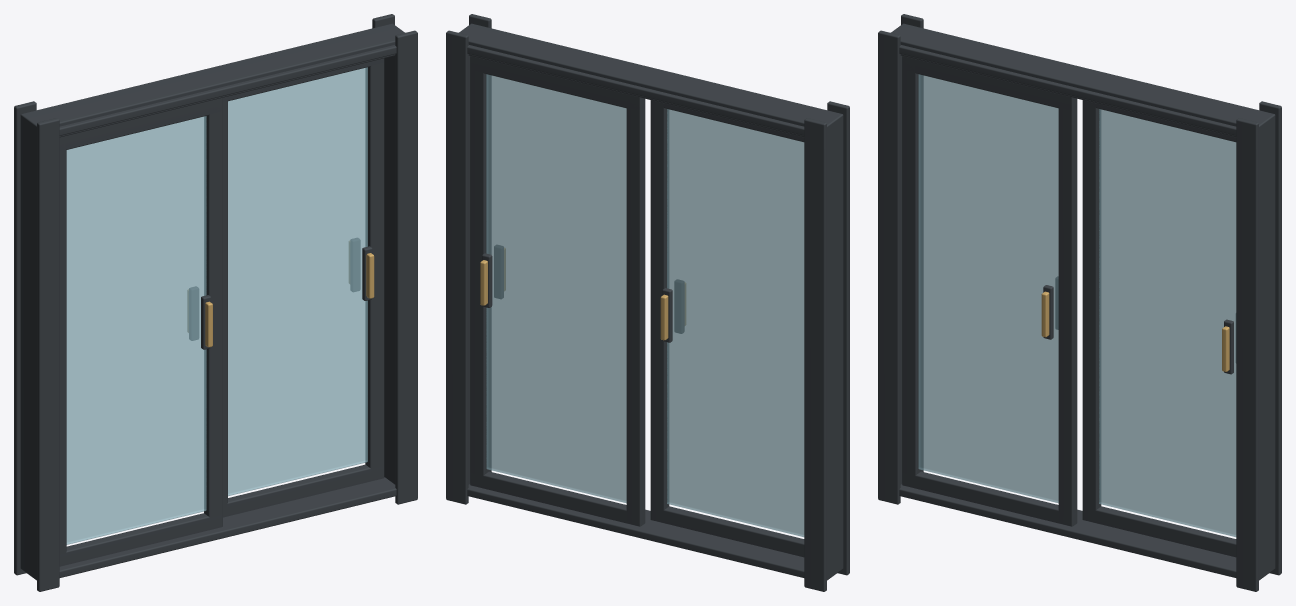
Rendered from door-sliding.glb.
The picture shows the model from 3 angles, left to right: view 1: azimuth 30°, elevation 25°; view 2: azimuth 150°, elevation 25°; view 3: azimuth 330°, elevation 25°; orthographic projection.
Parts seen in each view (by area): view 1: Door glazing, Door glazing.001, Architrave.008, Architrave.010, Lintel.002, Jamb.004, Stile.003, Stile.001, Twin track, Jamb.005, Architrave.009, Twin track.001 (+8 smaller); view 2: Door glazing.001, Door glazing, Architrave.009, Architrave.011, Lintel.002, Stile.002, Jamb.004, Stile.001, Stile.003, Twin track, Architrave.008, Twin track.001 (+8 smaller); view 3: Door glazing, Door glazing.001, Architrave.010, Architrave.008, Lintel.002, Stile.001, Stile.002, Stile, Jamb.005, Twin track, Architrave.011, Twin track.001 (+6 smaller).
Boxes of the visible parts, x1,y1,x2,y2 form: Door glazing: [66, 116, 206, 544]; Door glazing.001: [228, 67, 367, 496]; Architrave.008: [37, 118, 59, 591]; Architrave.010: [395, 30, 417, 504]; Lintel.002: [21, 23, 404, 137]; Jamb.004: [20, 115, 36, 580]; Stile.003: [365, 62, 384, 478]; Stile.001: [204, 97, 222, 524]; Twin track: [59, 477, 396, 577]; Jamb.005: [384, 56, 395, 484]; Architrave.009: [14, 101, 36, 575]; Twin track.001: [59, 45, 396, 135]; Door glazing.001: [486, 74, 626, 503]; Door glazing: [667, 109, 804, 537]; Architrave.009: [804, 118, 826, 591]; Architrave.011: [446, 30, 468, 504]; Lintel.002: [459, 23, 843, 137]; Stile.002: [626, 94, 645, 524]; Jamb.004: [827, 116, 843, 580]; Stile.001: [650, 100, 669, 520]; Stile.003: [470, 56, 488, 485]; Twin track: [467, 472, 804, 577]; Architrave.008: [827, 101, 849, 575]; Twin track.001: [467, 45, 804, 135]; Door glazing: [918, 74, 1058, 503]; Door glazing.001: [1099, 109, 1236, 537]; Architrave.010: [1236, 118, 1258, 591]; Architrave.008: [878, 30, 900, 504]; Lintel.002: [891, 23, 1275, 137]; Stile.001: [1058, 97, 1077, 524]; Stile.002: [1082, 100, 1101, 520]; Stile: [902, 56, 920, 485]; Jamb.005: [1259, 116, 1275, 580]; Twin track: [899, 472, 1236, 577]; Architrave.011: [1259, 101, 1281, 575]; Twin track.001: [899, 45, 1236, 135].
Size of the model in its own units: 1.83 by 2.16 by 0.26.
